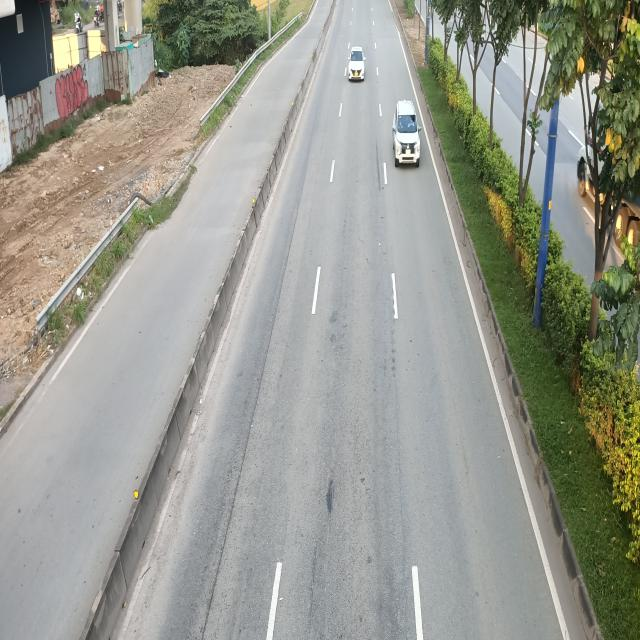car: (394, 101, 424, 169), (348, 45, 366, 82)
